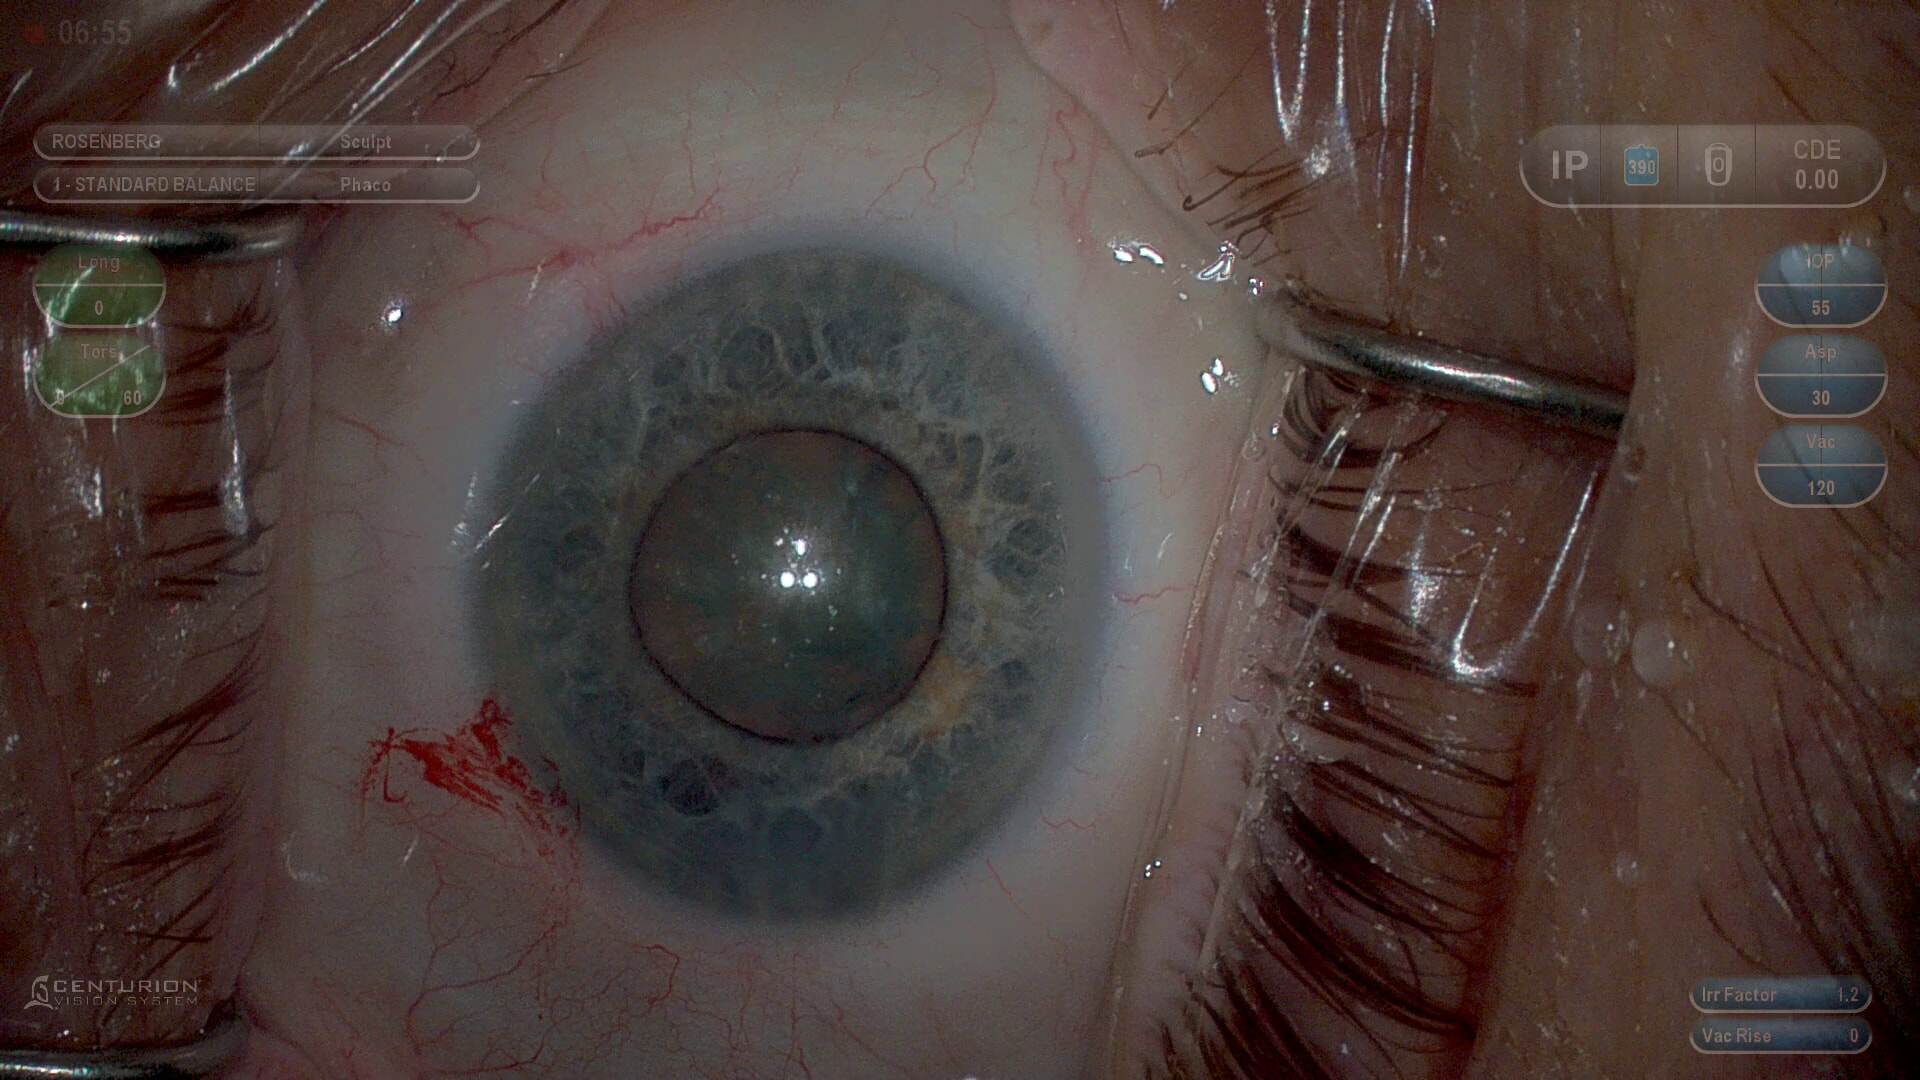iris: (483, 253, 1084, 922)
pupil: (618, 421, 959, 755)
